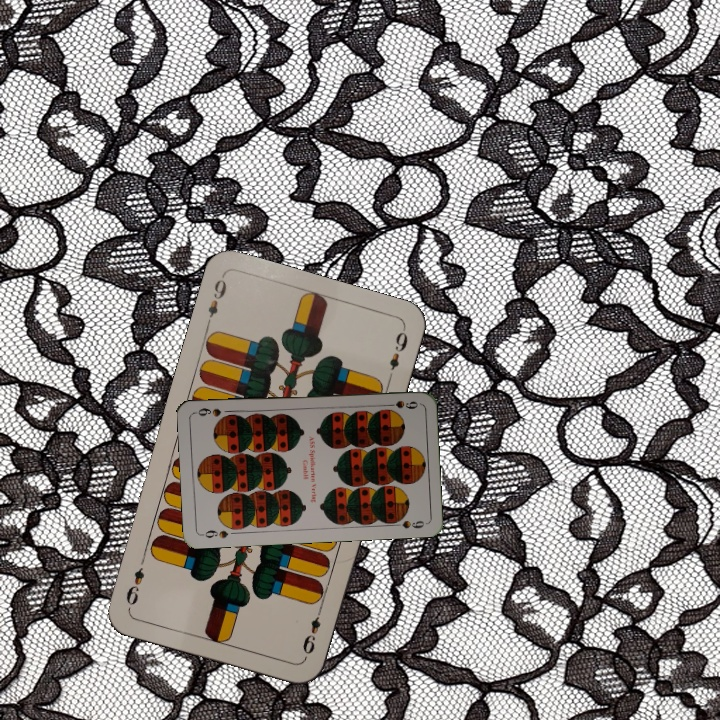E9: (202, 272, 230, 330), (298, 603, 325, 661)
S9: (380, 396, 420, 412), (198, 526, 230, 541)
